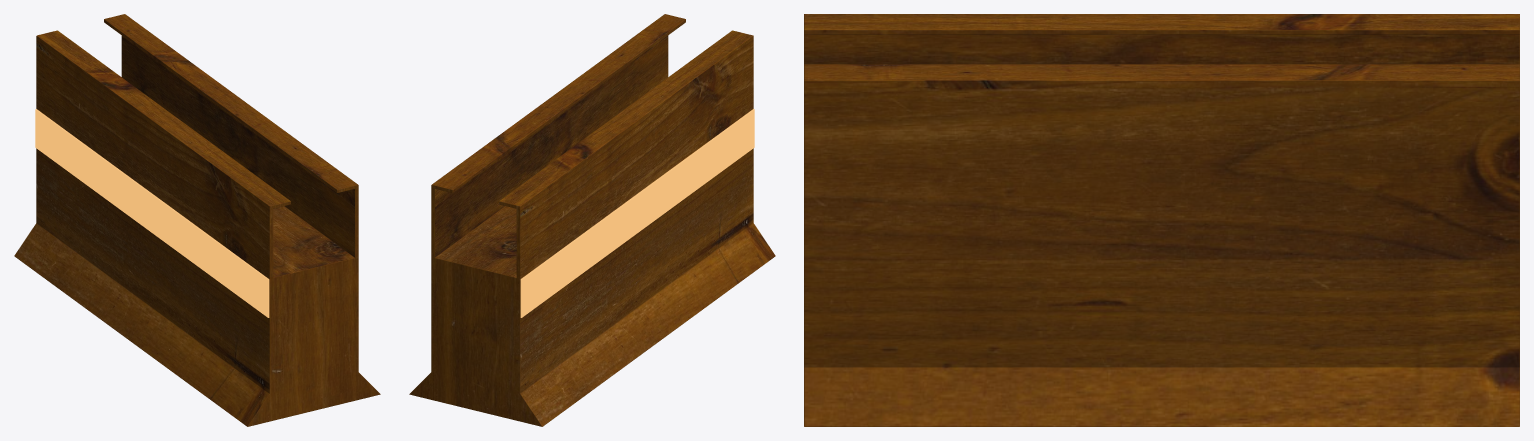
File: baffle-indirect.glb
The picture shows the model from 3 angles, left to right: view 1: azimuth 30°, elevation 25°; view 2: azimuth 150°, elevation 25°; view 3: azimuth 270°, elevation 25°; orthographic projection. The views are drawn at different scales.
Parts seen in each view (by area): view 1: indirect-light.001; view 2: indirect-light.001; view 3: indirect-light.001.
Part boxes in pixels (<box>): indirect-light.001: <box>14,14,380,426</box>; indirect-light.001: <box>409,14,775,426</box>; indirect-light.001: <box>804,14,1519,426</box>.
Bounding box in the file's own units: 0.859 × 1.32 × 2.6.
Materials: 2 (1 with a texture image).
